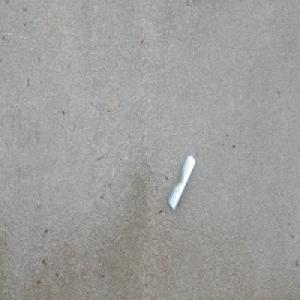ClampPart: (167, 152, 196, 211)
